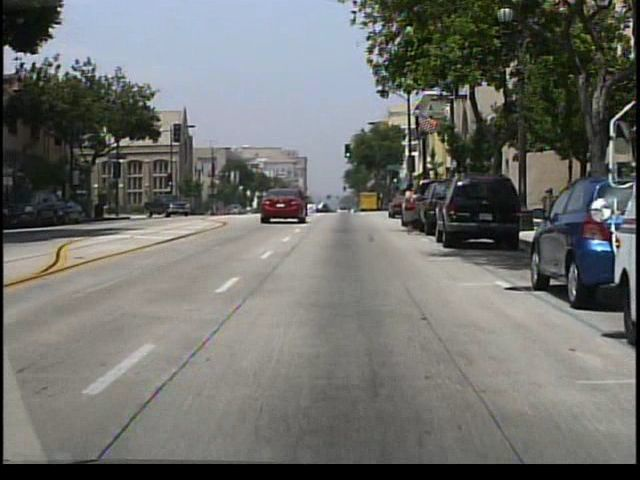person: (399, 182, 426, 236)
